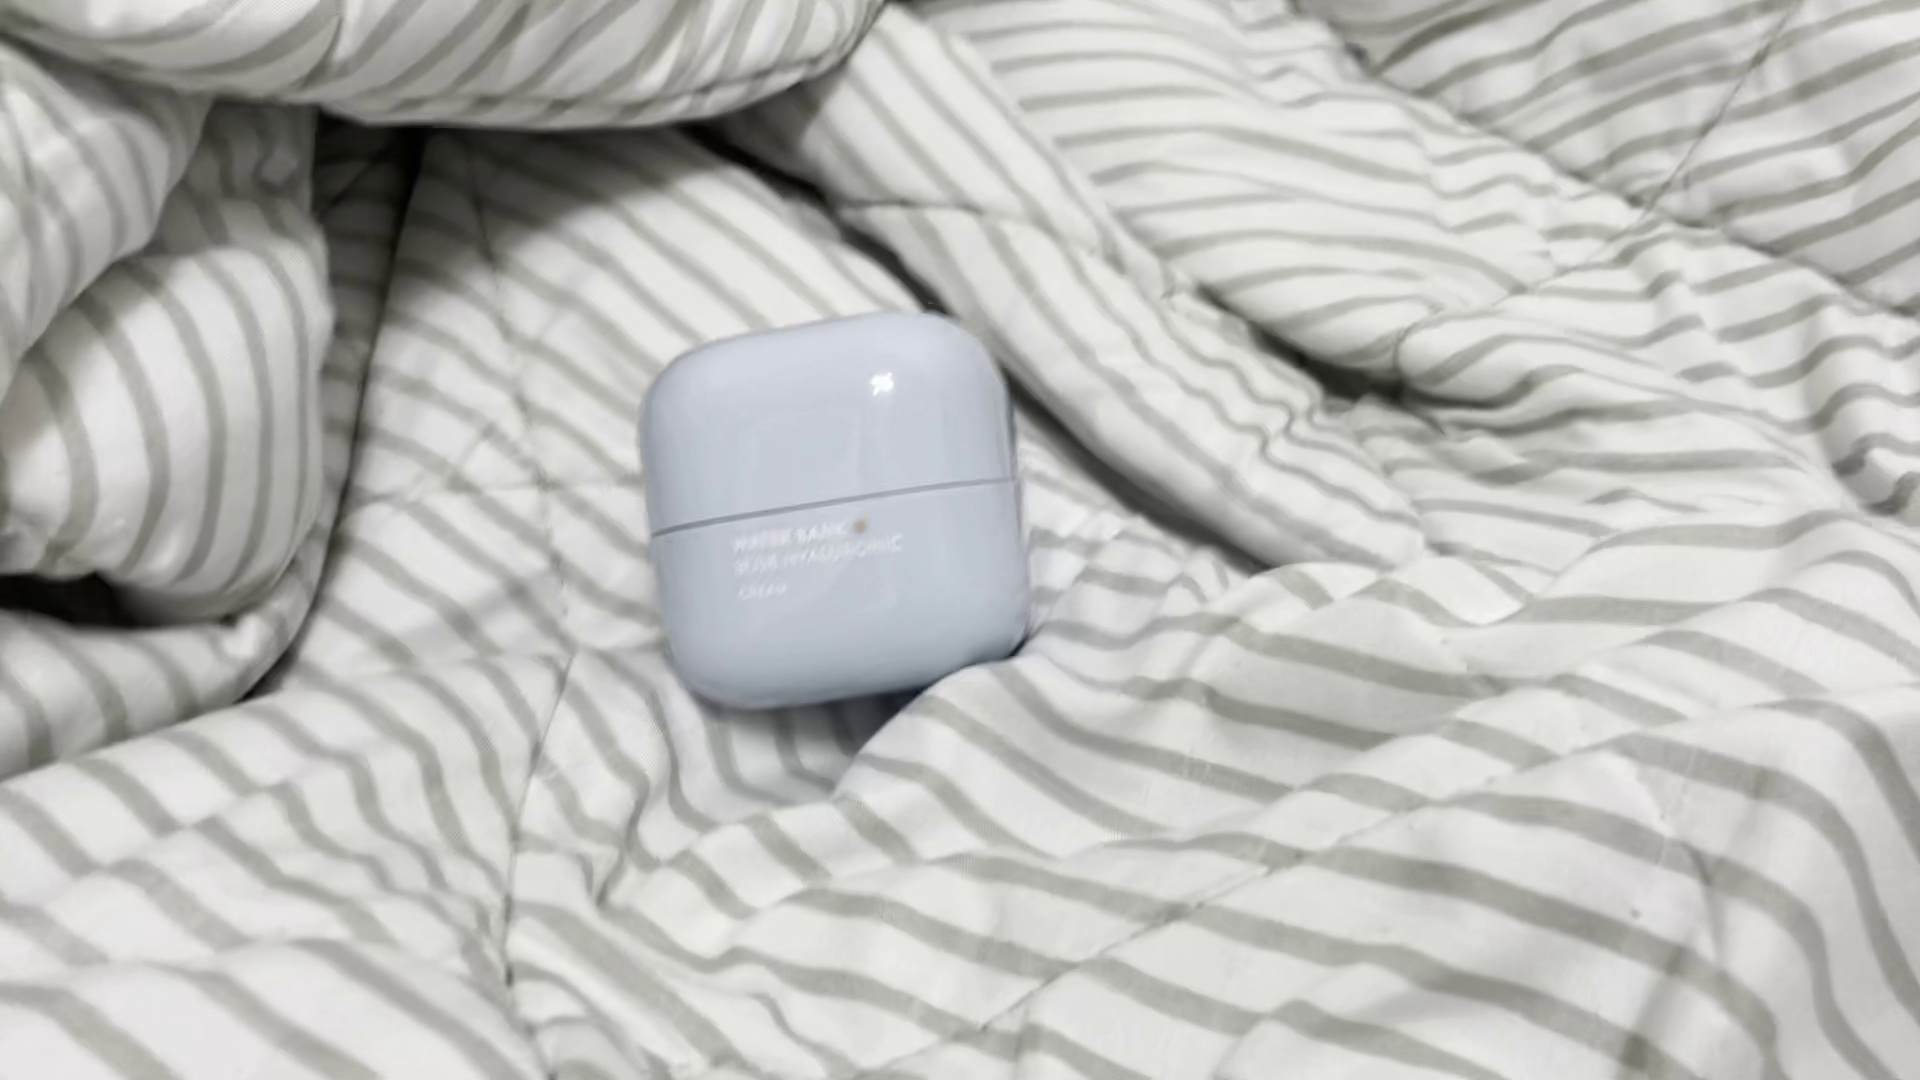cream: (636, 309, 1030, 702)
